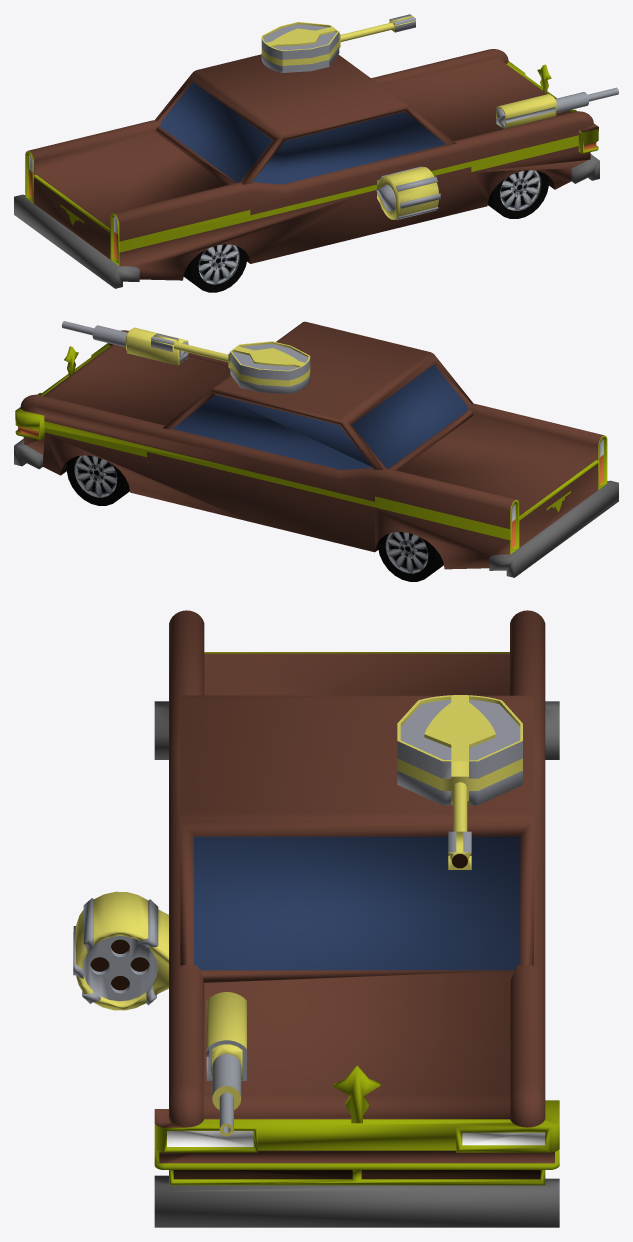
Rendered from John George.obj.
The picture shows the model from 3 angles, top to bottom: view 1: azimuth 30°, elevation 25°; view 2: azimuth 150°, elevation 25°; view 3: azimuth 270°, elevation 25°; orthographic projection. The views are drawn at different scales.
Parts seen in each view (by area): view 1: Mesh1 Group2 Group1 Model, Mesh6 skpEF1A1 Model, Mesh3 skpFEED1 Group1 Model, Mesh13 skp62BA4 Model, Mesh11 skp62BA3 Model, Mesh4 skpD4B4_1 Group1 Model; view 2: Mesh1 Group2 Group1 Model, Mesh6 skpEF1A1 Model, Mesh9 skp62BA2 Model, Mesh7 skp62BA1 Model, Mesh4 skpD4B4_1 Group1 Model, Mesh5 skpEF1A1 Model; view 3: Mesh1 Group2 Group1 Model, Mesh6 skpEF1A1 Model, Mesh3 skpFEED1 Group1 Model, Mesh4 skpD4B4_1 Group1 Model, Mesh2 Group2 Group1 Model, Mesh5 skpEF1A1 Model.
Boxes of the visible parts, bbox=[...] form: Mesh1 Group2 Group1 Model: bbox=[14, 49, 599, 288]; Mesh6 skpEF1A1 Model: bbox=[261, 22, 393, 72]; Mesh3 skpFEED1 Group1 Model: bbox=[376, 166, 440, 219]; Mesh13 skp62BA4 Model: bbox=[183, 244, 247, 292]; Mesh11 skp62BA3 Model: bbox=[488, 170, 548, 218]; Mesh4 skpD4B4_1 Group1 Model: bbox=[496, 87, 618, 128]; Mesh1 Group2 Group1 Model: bbox=[14, 321, 618, 577]; Mesh6 skpEF1A1 Model: bbox=[173, 341, 310, 393]; Mesh9 skp62BA2 Model: bbox=[377, 532, 443, 581]; Mesh7 skp62BA1 Model: bbox=[66, 455, 129, 505]; Mesh4 skpD4B4_1 Group1 Model: bbox=[62, 321, 188, 365]; Mesh5 skpEF1A1 Model: bbox=[151, 333, 178, 351]; Mesh1 Group2 Group1 Model: bbox=[154, 610, 559, 1227]; Mesh6 skpEF1A1 Model: bbox=[397, 695, 522, 831]; Mesh3 skpFEED1 Group1 Model: bbox=[73, 891, 168, 1010]; Mesh4 skpD4B4_1 Group1 Model: bbox=[206, 992, 246, 1136]; Mesh2 Group2 Group1 Model: bbox=[333, 1065, 380, 1123]; Mesh5 skpEF1A1 Model: bbox=[448, 831, 471, 869].
Size of the model in its own units: 5.09 by 1.54 by 2.06.
